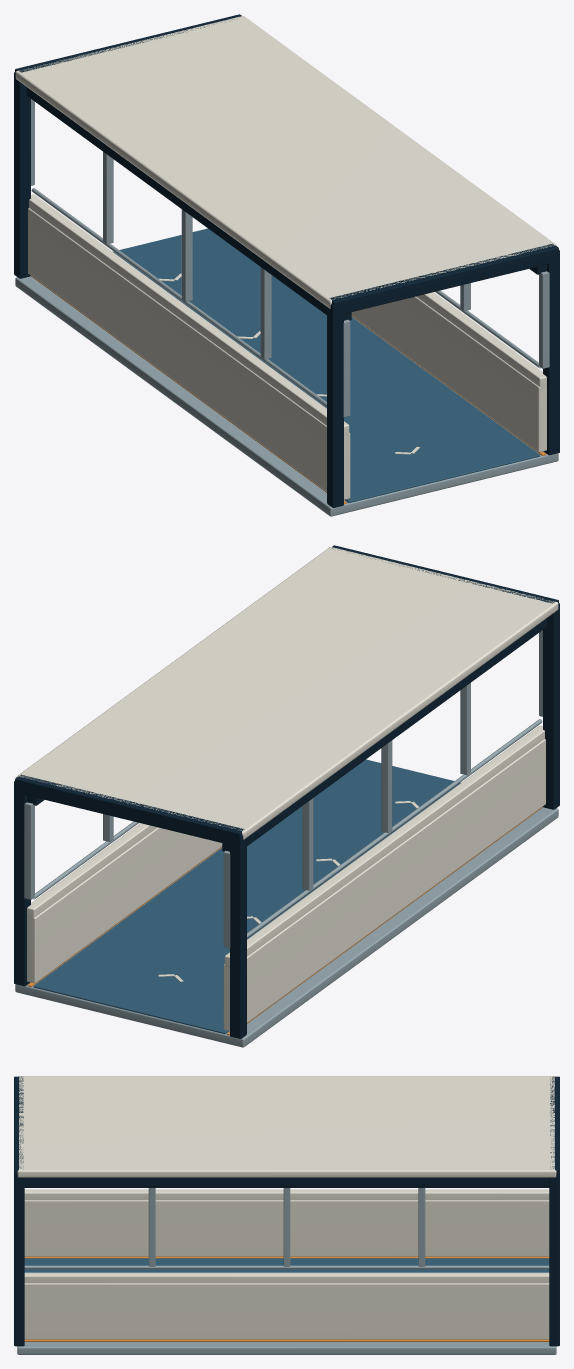
File: jetbridge.glb
3 renders of one model, top to bottom at view 1: azimuth 30°, elevation 25°; view 2: azimuth 150°, elevation 25°; view 3: azimuth 270°, elevation 25°, orthographic. The views are drawn at different scales.
Parts seen in each view (by area): view 1: jetbridge; view 2: jetbridge; view 3: jetbridge.
Boxes of the visible parts, box(x1,y1,x2,y2) form: jetbridge: box(14, 14, 559, 516); jetbridge: box(14, 545, 559, 1047); jetbridge: box(14, 1076, 559, 1354).
Size of the model in its own units: 3.35 by 3.02 by 8.1.
